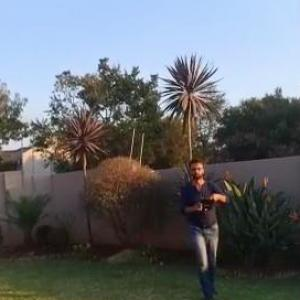follow: (182, 153, 243, 299)
